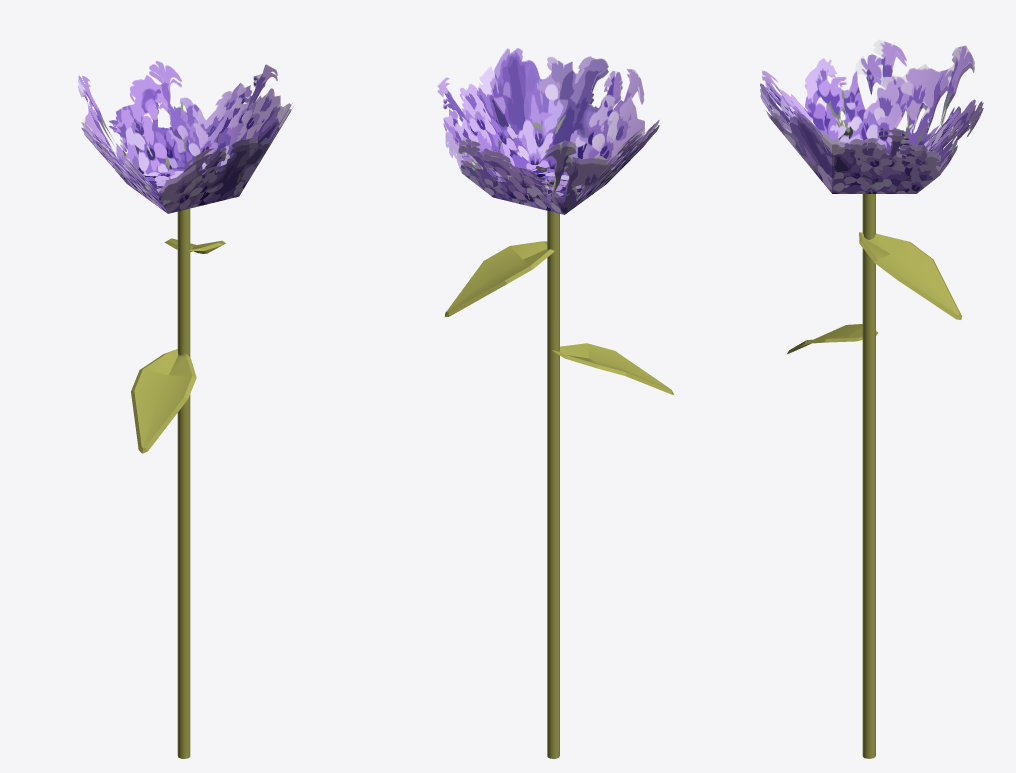
File: SM_flower_06.fbx
3 renders of one model, left to right at view 1: azimuth 30°, elevation 25°; view 2: azimuth 150°, elevation 25°; view 3: azimuth 270°, elevation 25°, orthographic. The views are drawn at different scales.
Visible parts, largest first — view 1: flower_06; view 2: flower_06; view 3: flower_06.
Boxes of the visible parts, <box> form: flower_06: <box>78,60,292,758</box>; flower_06: <box>437,47,673,758</box>; flower_06: <box>760,39,983,758</box>.
Bounding box in the file's own units: 20.01 × 59.86 × 20.01.
